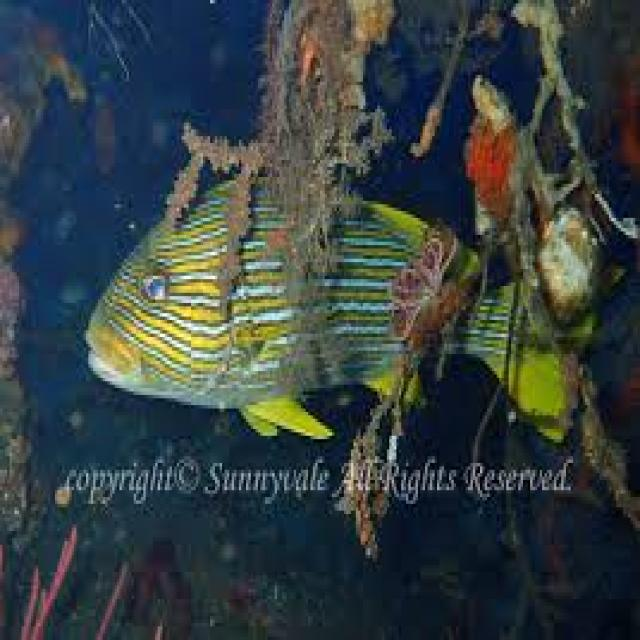RibbonedSweetlips: (84, 172, 626, 446)
